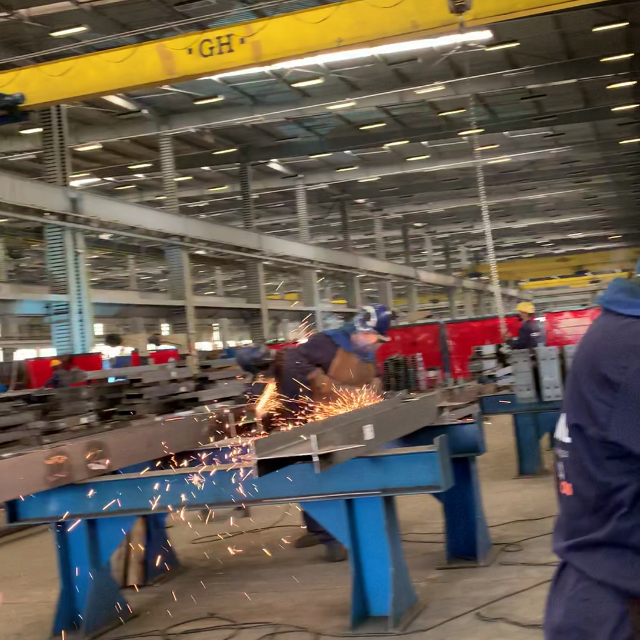face-shield: (352, 334, 391, 356)
glove: (309, 370, 343, 400)
helmet: (356, 306, 394, 334)
person: (273, 304, 395, 400)
safety-shoe: (291, 530, 333, 548)
